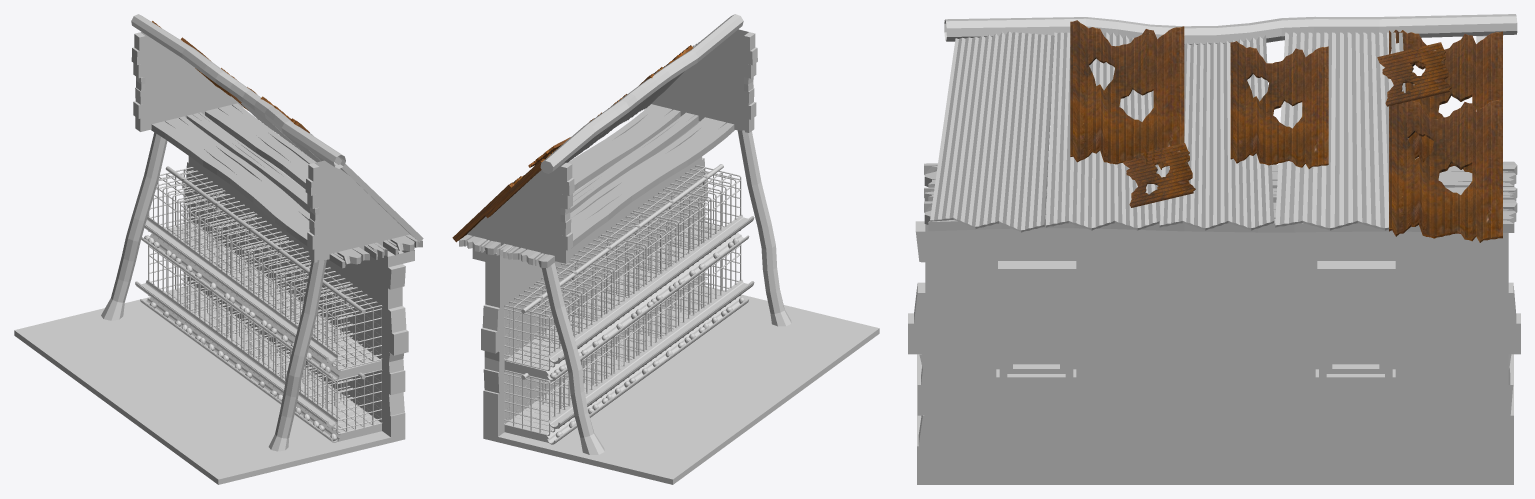
Rendered from chicken stable.fbx.
3 renders of one model, left to right at view 1: azimuth 30°, elevation 25°; view 2: azimuth 150°, elevation 25°; view 3: azimuth 270°, elevation 25°, orthographic. The views are drawn at different scales.
Visible parts, largest first — view 1: Cylinder.001, Cube.013, Plane, Cube.014, Cube.015, Plane.002, Plane.001, Cube.012, Cube.008; view 2: Cylinder.001, Cube.013, Plane, Cube.014, Plane.002, Cube.015, Plane.001, Cube.012, Cube.009, Cube.007; view 3: Plane, Cube.008, Cube.004, Cube.007, Cube.005, Cube.002, Cube.006, Cube.003, Cube.012, Cube.001, Cube, Cube.009 (+4 smaller).
Boxes of the visible parts, x1=… form: Cylinder.001: x1=135, y1=166, x2=382, y2=442; Cube.013: x1=14, y1=297, x2=405, y2=484; Plane: x1=185, y1=156, x2=414, y2=437; Cube.014: x1=151, y1=103, x2=422, y2=268; Cube.015: x1=101, y1=132, x2=326, y2=451; Plane.002: x1=305, y1=160, x2=409, y2=262; Plane.001: x1=131, y1=32, x2=243, y2=131; Cube.012: x1=131, y1=14, x2=345, y2=168; Cube.008: x1=309, y1=133, x2=423, y2=242; Cylinder.001: x1=504, y1=164, x2=754, y2=444; Cube.013: x1=483, y1=286, x2=879, y2=484; Plane: x1=472, y1=121, x2=707, y2=436; Cube.014: x1=459, y1=104, x2=734, y2=268; Plane.002: x1=651, y1=29, x2=757, y2=132; Cube.015: x1=541, y1=130, x2=791, y2=454; Plane.001: x1=466, y1=162, x2=574, y2=263; Cube.012: x1=540, y1=14, x2=743, y2=173; Cube.009: x1=484, y1=152, x2=552, y2=217; Cube.007: x1=452, y1=173, x2=526, y2=242; Plane: x1=908, y1=221, x2=1520, y2=477; Cube.008: x1=930, y1=31, x2=1054, y2=232; Cube.004: x1=1275, y1=32, x2=1408, y2=230; Cube.007: x1=1389, y1=99, x2=1502, y2=242; Cube.005: x1=1070, y1=20, x2=1184, y2=169; Cube.002: x1=1159, y1=35, x2=1274, y2=230; Cube.006: x1=1046, y1=32, x2=1160, y2=230; Cube.003: x1=1230, y1=41, x2=1328, y2=168; Cube.012: x1=944, y1=14, x2=1517, y2=44; Cube.001: x1=996, y1=261, x2=1076, y2=387; Cube: x1=1315, y1=261, x2=1395, y2=387; Cube.009: x1=1389, y1=30, x2=1502, y2=172.
Bounding box in the file's own units: 688 × 859 × 1117.
